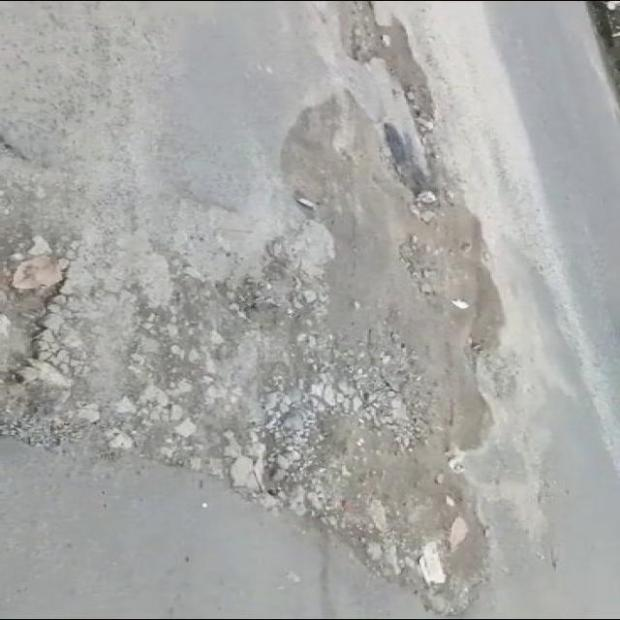lubang: (0, 3, 504, 613)
